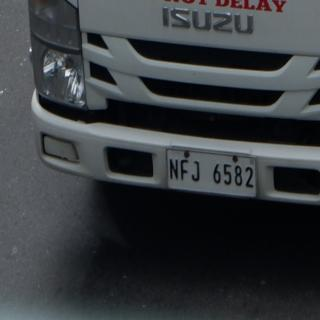license: (168, 150, 257, 198)
